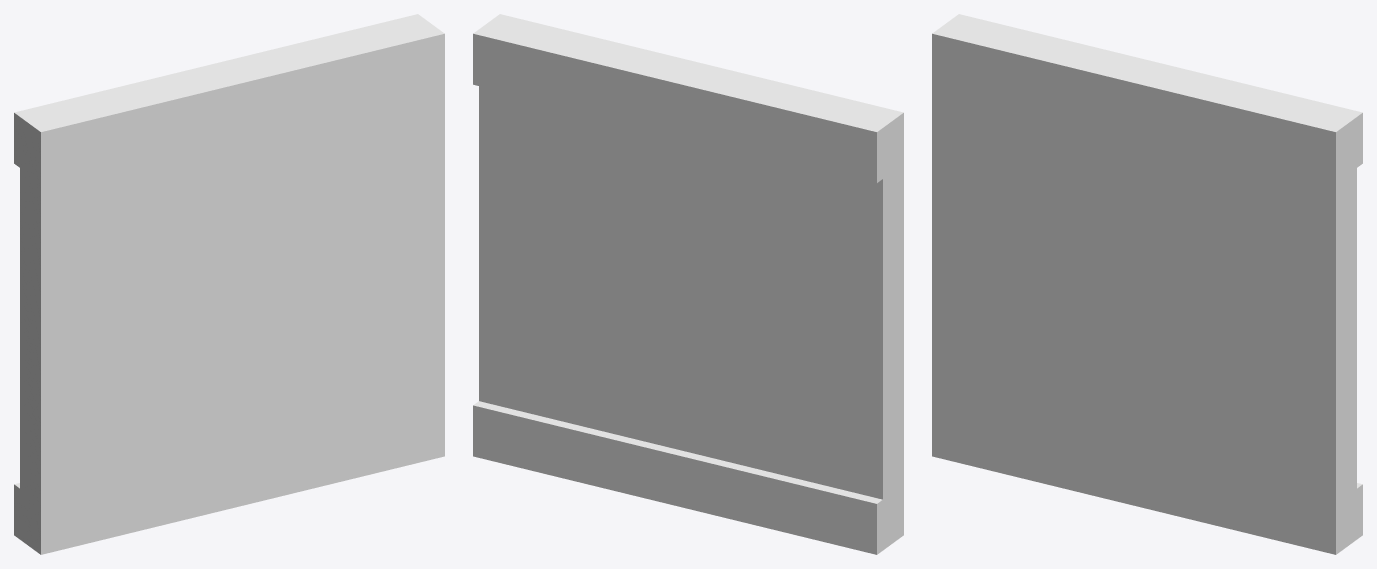
File: venice_road_0.fbx
3 views of the same model, side by side, from view 1: azimuth 30°, elevation 25°; view 2: azimuth 150°, elevation 25°; view 3: azimuth 330°, elevation 25° (orthographic).
Visible parts, largest first — view 1: Cube.286; view 2: Cube.286; view 3: Cube.286.
Part boxes in pixels (x1,y1,x2,y2): Cube.286: (14,14,444,554); Cube.286: (473,14,903,554); Cube.286: (932,14,1362,554).
Size of the model in its own units: 550 by 550 by 63.5.
